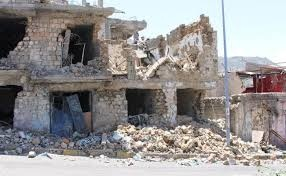rubble: (108, 123, 242, 163)
